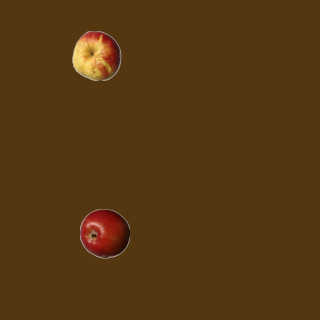Apple Braeburn: (79, 208, 129, 258)
Apple Red Yellow 1: (71, 30, 121, 80)
